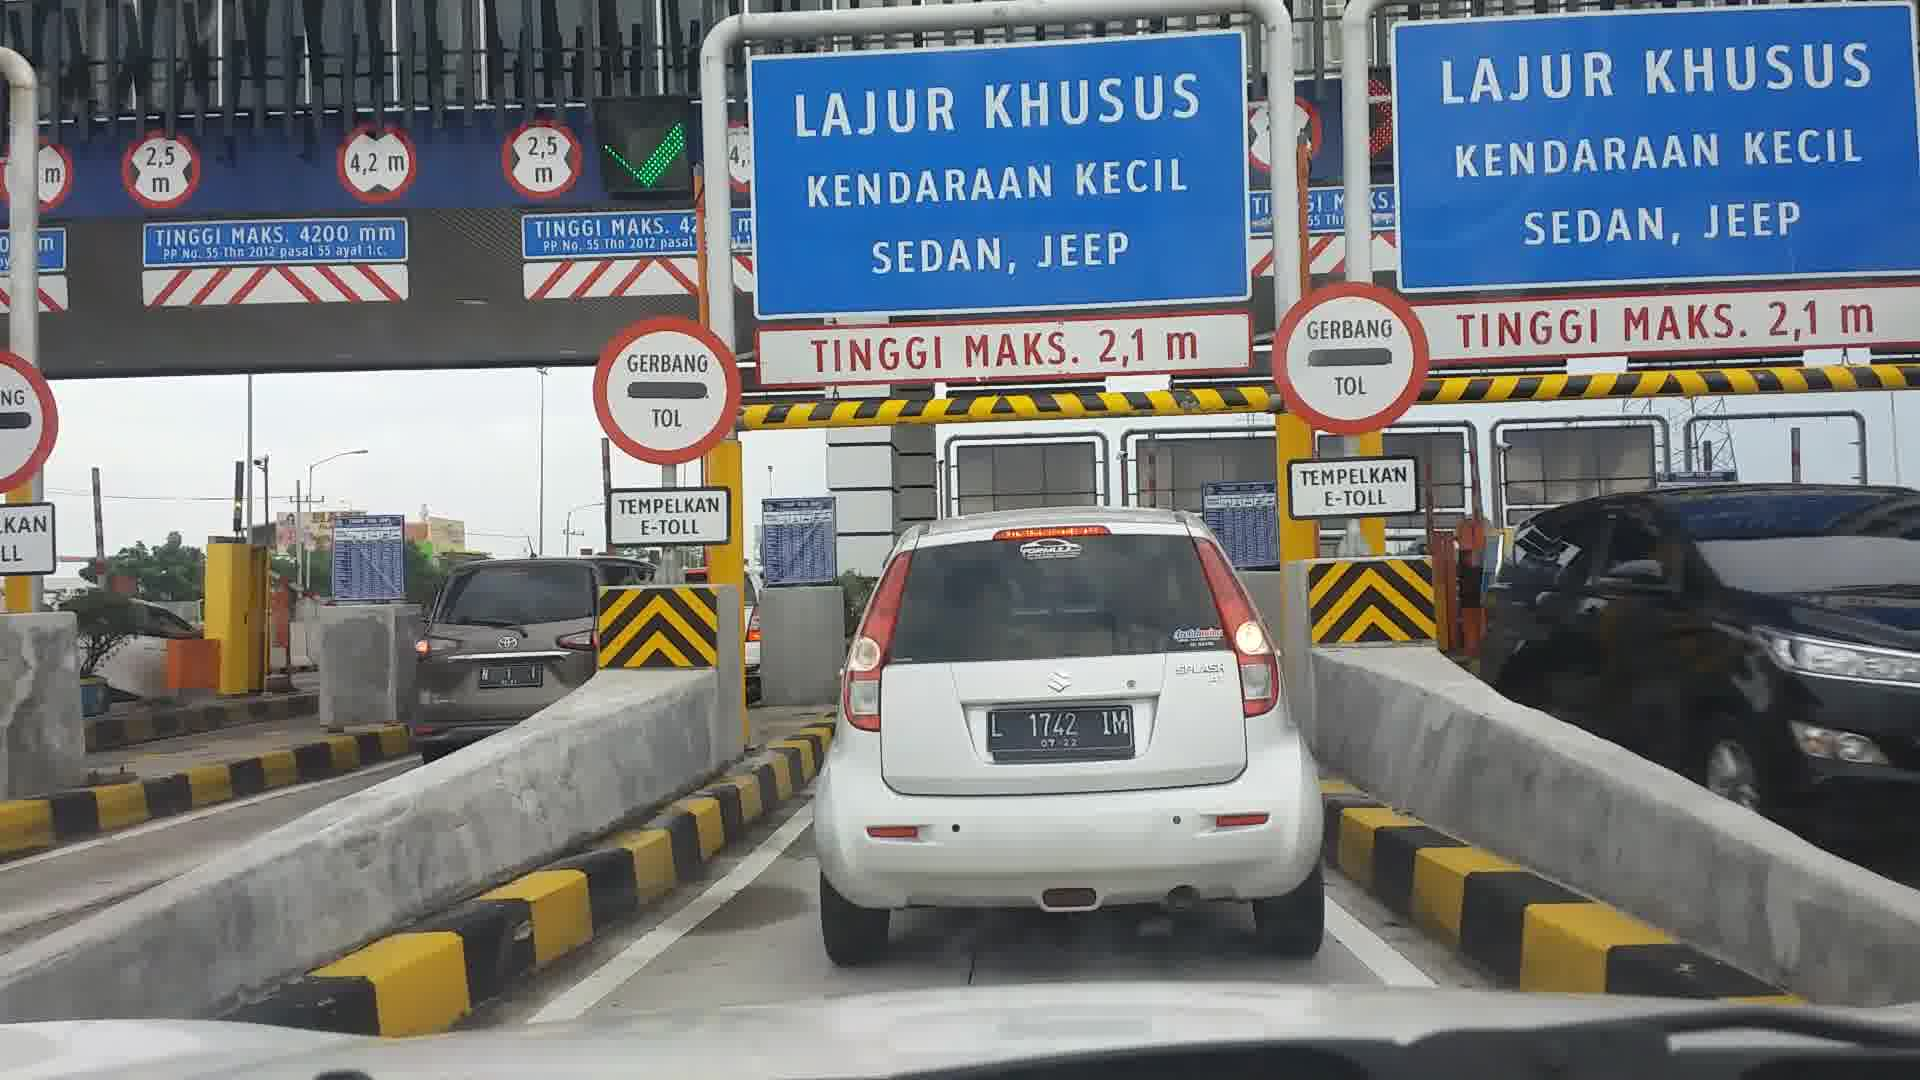plate_positive: (986, 708, 1135, 762), (479, 665, 542, 687)
